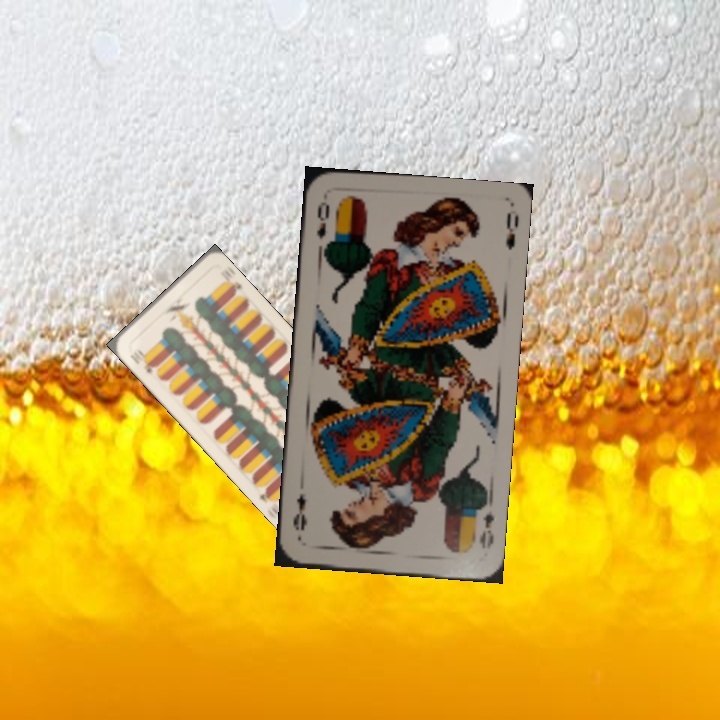E10: (126, 348, 158, 377)
EO: (470, 496, 497, 552), (312, 197, 332, 242)
